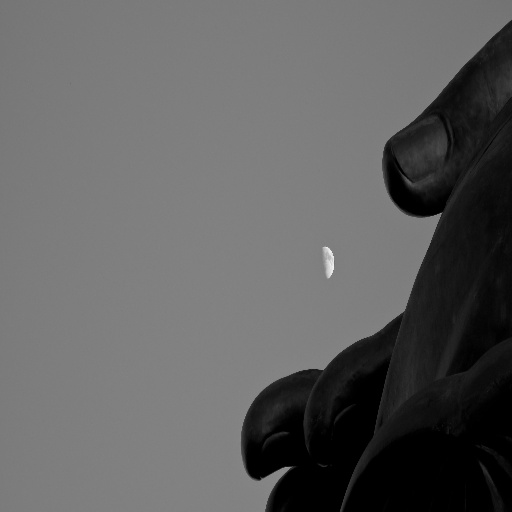hand: (240, 18, 511, 511)
